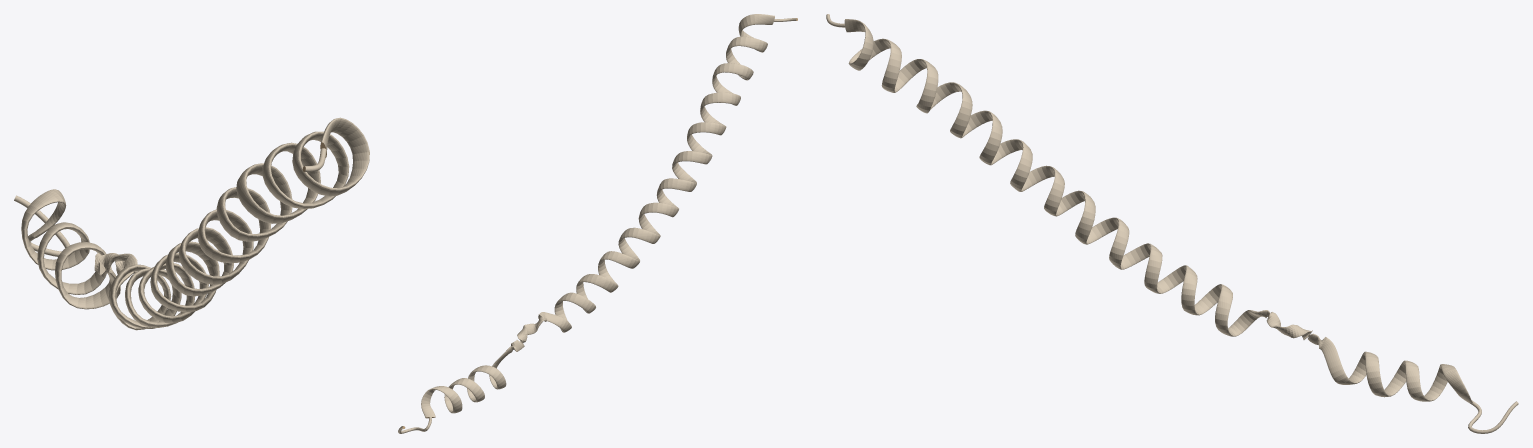
The model's file is SheetHelixfCoilrCoil.dae.
3 views of the same model, side by side, from view 1: azimuth 30°, elevation 25°; view 2: azimuth 150°, elevation 25°; view 3: azimuth 270°, elevation 25° (orthographic). The views are drawn at different scales.
Visible parts, largest first — view 1: Shape_IndexedTriangleStripSet_069; view 2: Shape_IndexedTriangleStripSet_069; view 3: Shape_IndexedTriangleStripSet_069.
Part boxes in pixels (x1,y1,x2,y2): Shape_IndexedTriangleStripSet_069: [14, 117, 369, 330]; Shape_IndexedTriangleStripSet_069: [398, 14, 797, 433]; Shape_IndexedTriangleStripSet_069: [826, 14, 1518, 433].
Size of the model in its own units: 27.03 by 91.06 by 49.87.
